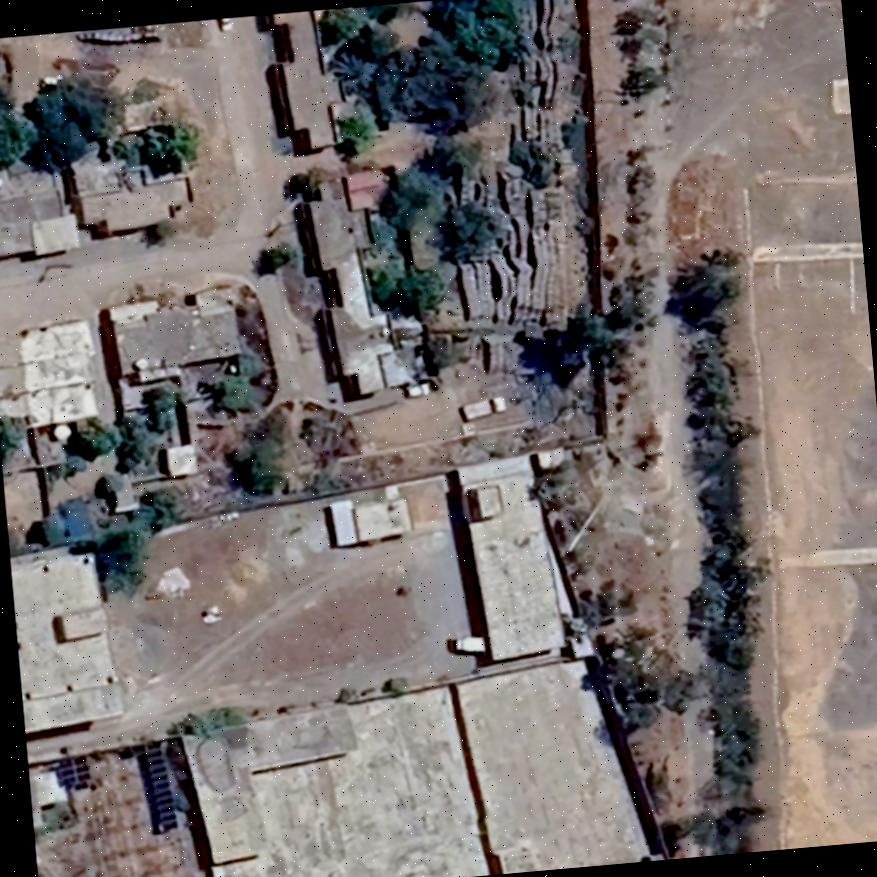Solarpanel: (127, 731, 180, 843), (46, 741, 91, 800)
